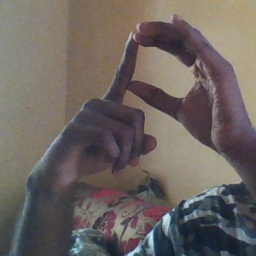P: (76, 10, 228, 165)
